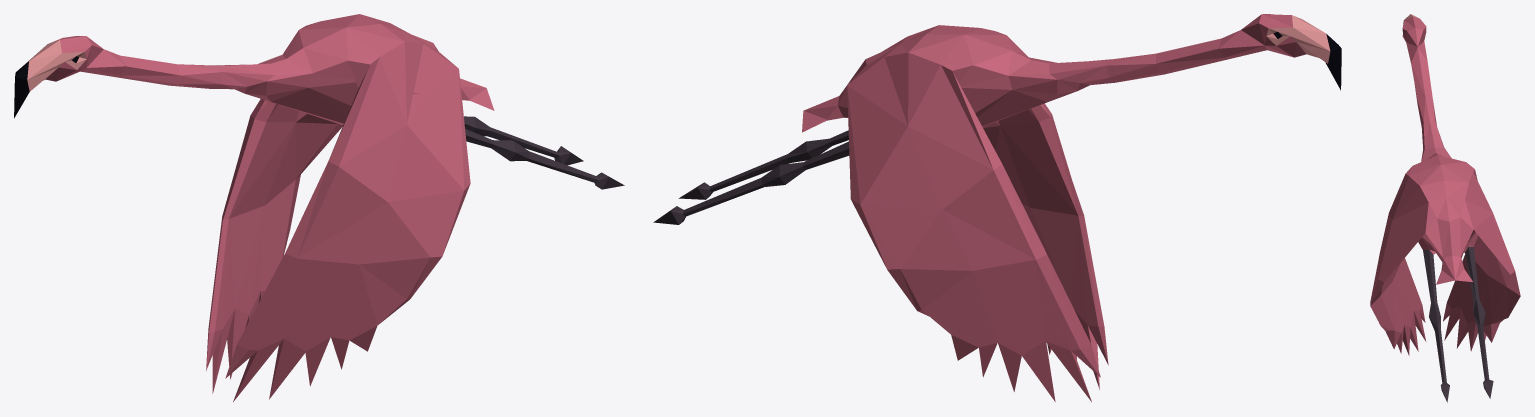
The model's file is Flamingo2.glb.
3 renders of one model, left to right at view 1: azimuth 30°, elevation 25°; view 2: azimuth 150°, elevation 25°; view 3: azimuth 270°, elevation 25°, orthographic. The views are drawn at different scales.
Visible parts, largest first — view 1: Object_0.001; view 2: Object_0.001; view 3: Object_0.001.
Boxes of the visible parts, box(x1,y1,x2,y2) form: Object_0.001: box(14, 14, 624, 401); Object_0.001: box(653, 14, 1341, 401); Object_0.001: box(1370, 14, 1520, 402).
Size of what is drawn, in the model's own units: 164 by 102 by 51.81.
